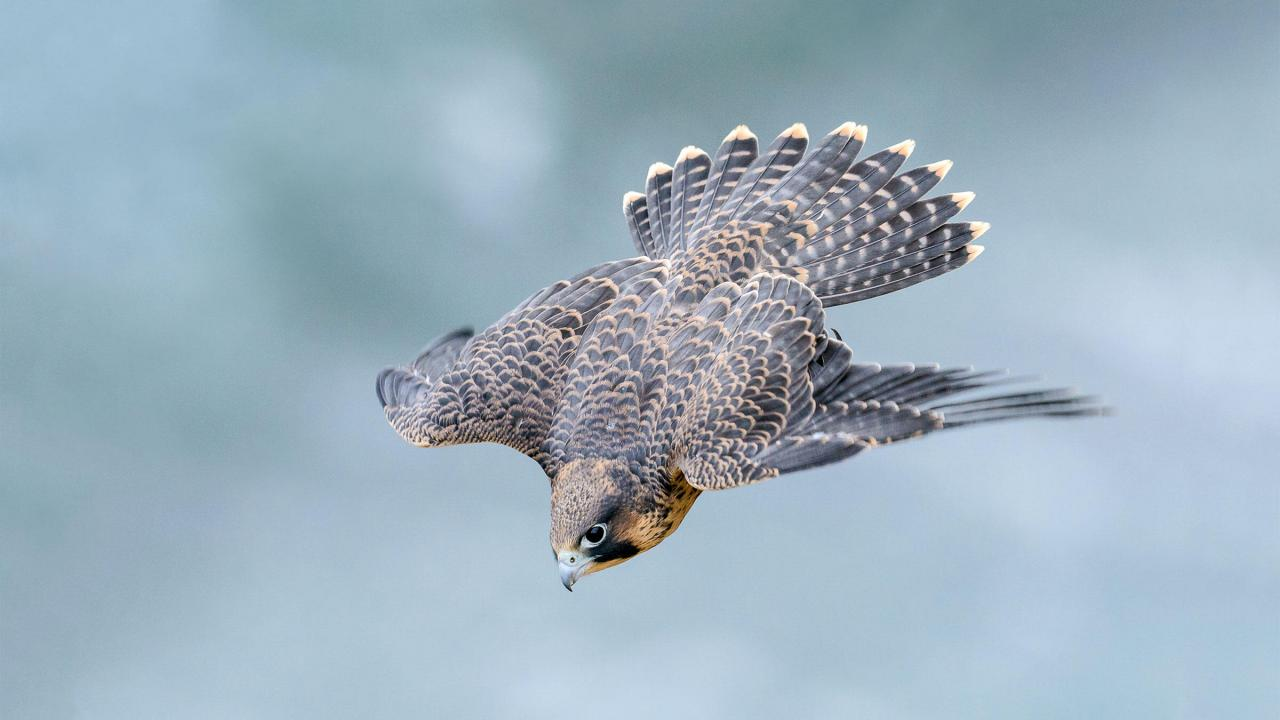Bird: (368, 107, 1124, 600)
